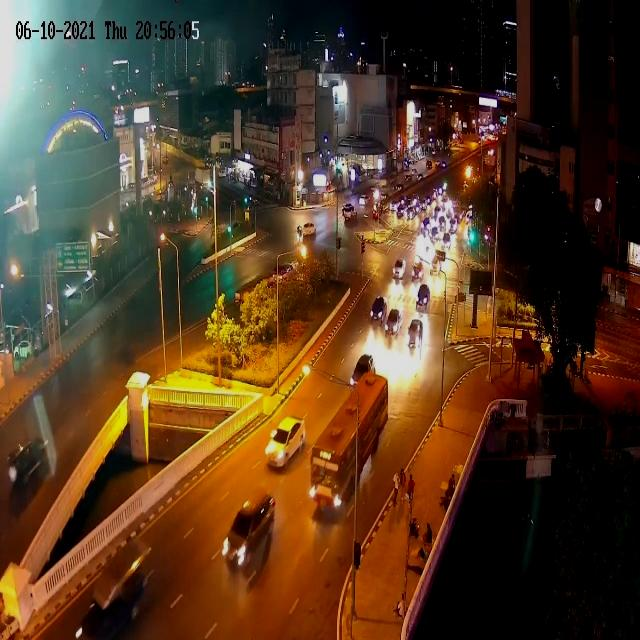Bus: (309, 370, 388, 513)
Car: (85, 541, 153, 635), (222, 492, 276, 574), (262, 412, 310, 473), (7, 438, 49, 486), (351, 354, 375, 385), (406, 194, 432, 222), (270, 263, 296, 285), (384, 308, 403, 338), (370, 296, 388, 325), (407, 318, 423, 349), (416, 284, 430, 310), (393, 258, 406, 280), (450, 200, 464, 220), (342, 203, 356, 221), (412, 260, 424, 281), (301, 222, 316, 238), (375, 192, 388, 209), (442, 232, 452, 250), (430, 257, 440, 275), (396, 202, 406, 218), (430, 224, 439, 240), (449, 217, 458, 233), (406, 206, 416, 220), (358, 194, 368, 207), (389, 200, 399, 213), (392, 183, 403, 194), (436, 159, 448, 169), (466, 207, 473, 221), (415, 169, 424, 179), (404, 172, 412, 182), (426, 160, 433, 169), (404, 160, 410, 168)
